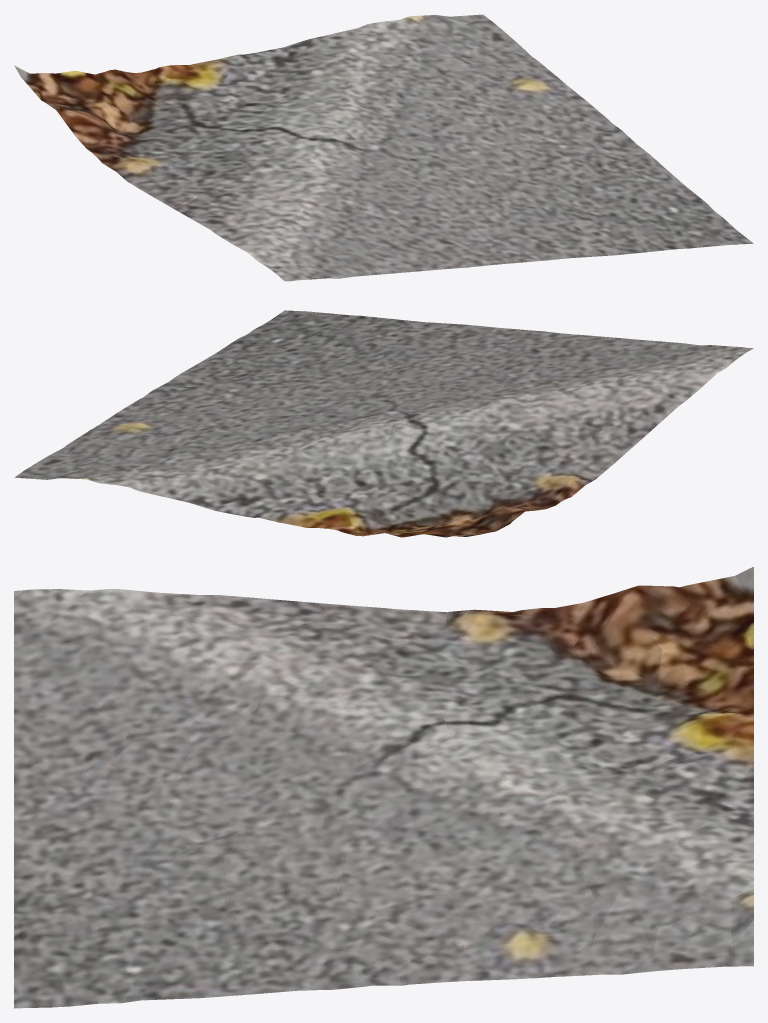
The picture shows the model from 3 angles, top to bottom: view 1: azimuth 30°, elevation 25°; view 2: azimuth 150°, elevation 25°; view 3: azimuth 270°, elevation 25°; orthographic projection. The views are drawn at different scales.
Size of the model in its own units: 0.8374 by 0.1615 by 0.8374.
3 materials, 3 textured.
